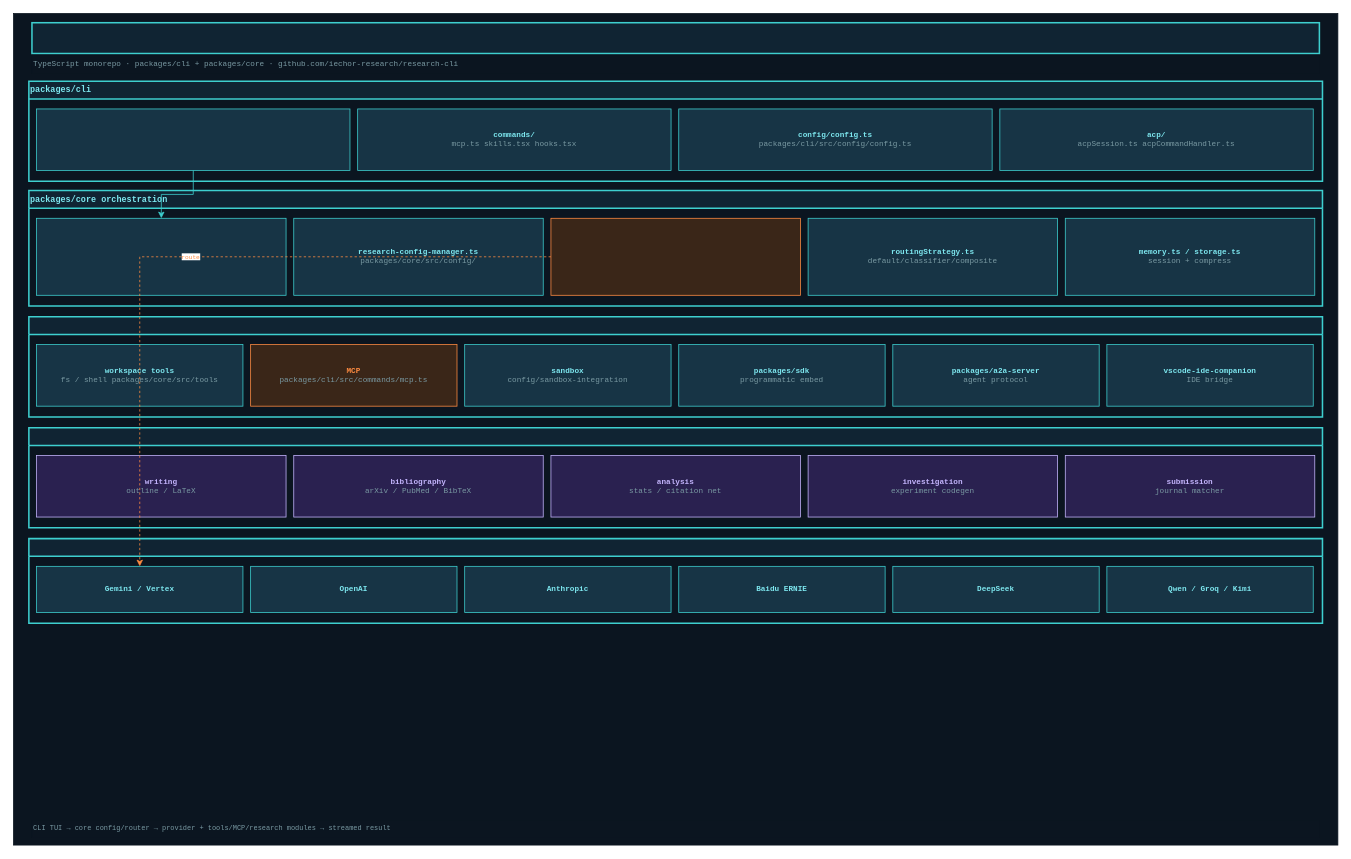
Image size: 1351x859. Some labels were removed from this diagram. Here are the shapes that lost their labels. From the top down, the box of each, then its label:
(31, 22, 1320, 54): RESEARCH CLI — SYSTEM ARCHITECTURE
(36, 108, 350, 171): research.tsx / TUI packages/cli/src
(36, 218, 286, 295): config.ts packages/core/src/config/config.ts
(550, 218, 800, 295): modelRouterService.ts packages/core/src/routing/
(28, 316, 1323, 417): TOOLS + MCP
(28, 427, 1323, 528): ACADEMIC MODULES packages/core/src/tools/research/
(28, 537, 1323, 624): PROVIDERS model-provider-config.ts + /model config
